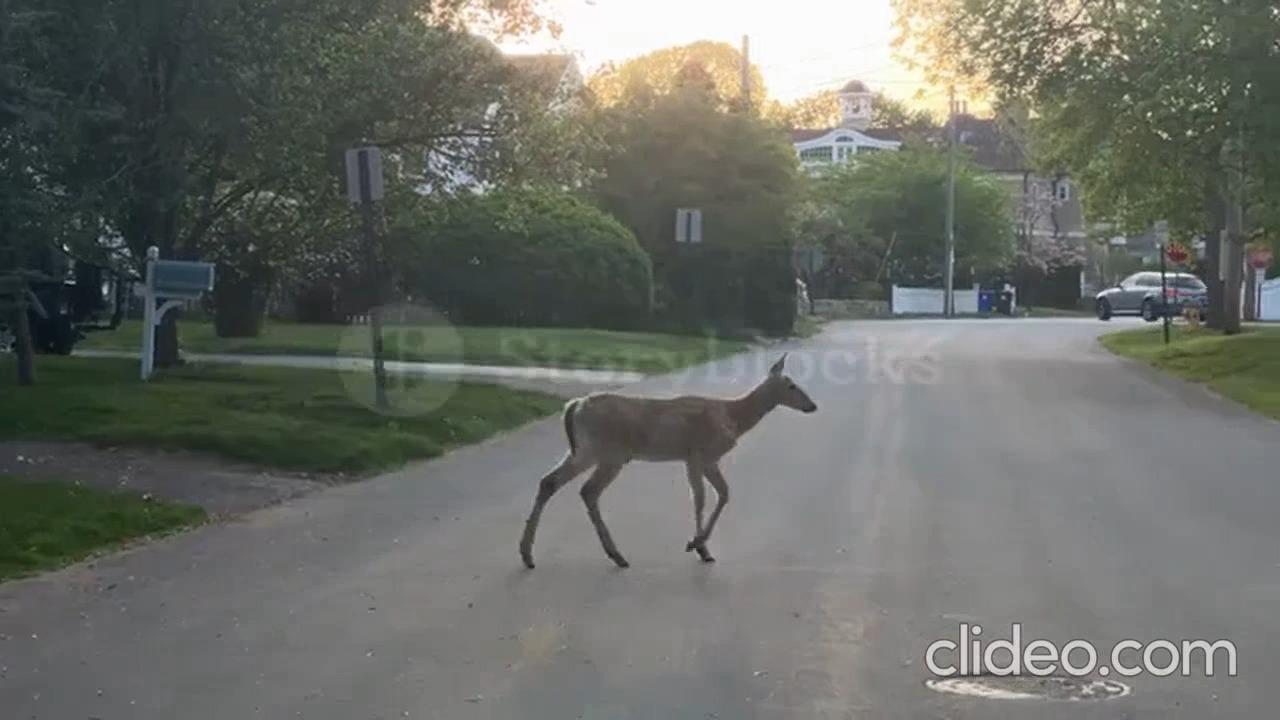deer: (513, 351, 821, 564)
